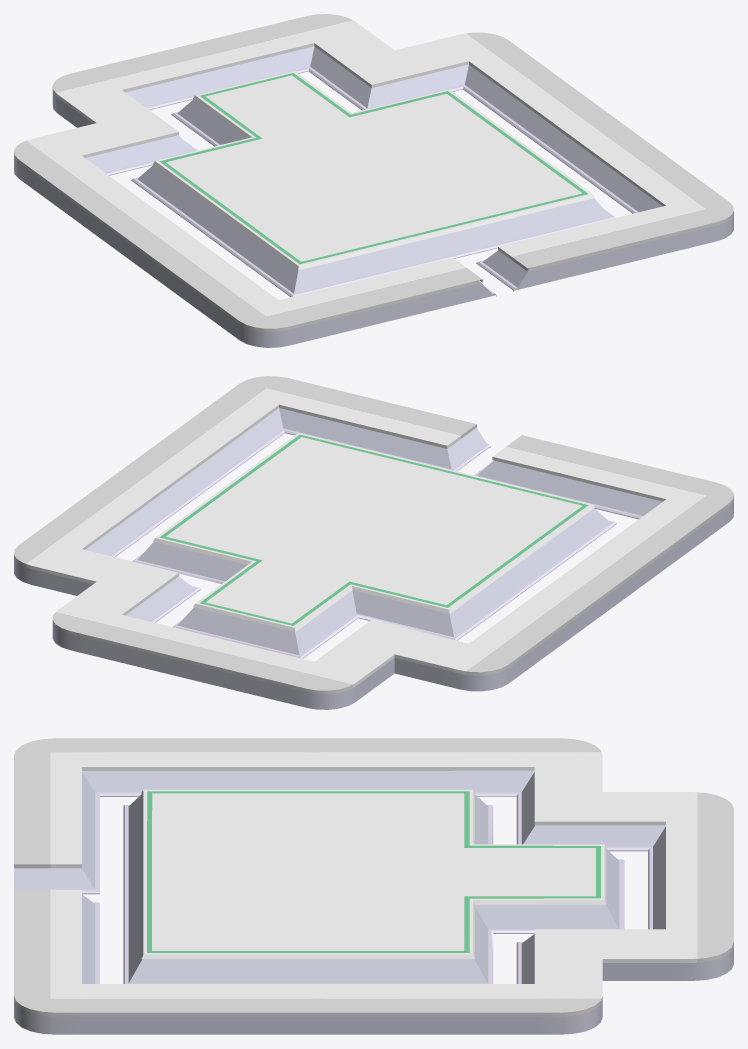
Rendered from M_level02_platform.fbx.
The picture shows the model from 3 angles, top to bottom: view 1: azimuth 30°, elevation 25°; view 2: azimuth 150°, elevation 25°; view 3: azimuth 270°, elevation 25°; orthographic projection. The views are drawn at different scales.
Visible parts, largest first — view 1: PRE_platform_frame_lvl02, M_platform_lvl02; view 2: PRE_platform_frame_lvl02, M_platform_lvl02; view 3: PRE_platform_frame_lvl02, M_platform_lvl02.
Part boxes in pixels (left/top/right/bottom): PRE_platform_frame_lvl02: left=14, top=14, right=733, bottom=347; M_platform_lvl02: left=131, top=71, right=615, bottom=296; PRE_platform_frame_lvl02: left=14, top=376, right=733, bottom=709; M_platform_lvl02: left=132, top=433, right=616, bottom=658; PRE_platform_frame_lvl02: left=14, top=738, right=733, bottom=1034; M_platform_lvl02: left=123, top=789, right=624, bottom=983.
Bounding box in the file's own units: 111 × 5.21 × 124.
